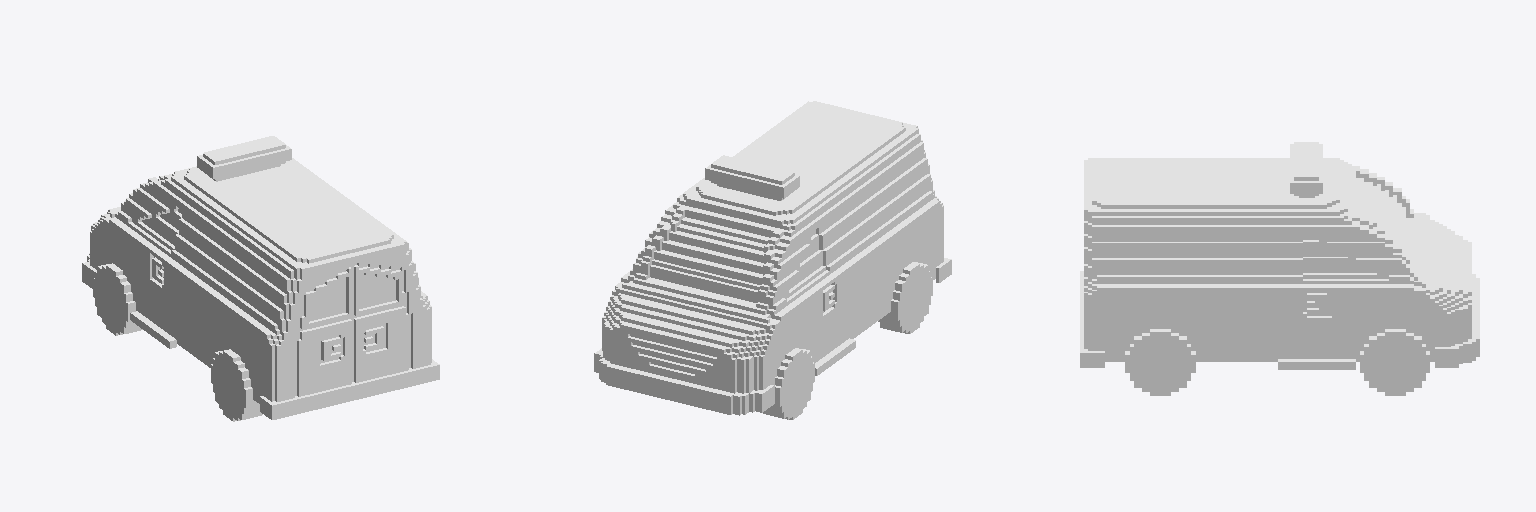
The model's file is AmbulanceCar.obj.
3 views of the same model, side by side, from view 1: azimuth 30°, elevation 25°; view 2: azimuth 150°, elevation 25°; view 3: azimuth 270°, elevation 25° (orthographic).
Parts seen in each view (by area): view 1: object 1; view 2: object 1; view 3: object 1.
Boxes of the visible parts, <box> form: object 1: <box>82,136,439,421</box>; object 1: <box>594,101,951,419</box>; object 1: <box>1080,142,1479,395</box>.
Size of the model in its own units: 4.9 by 5.2 by 9.7.